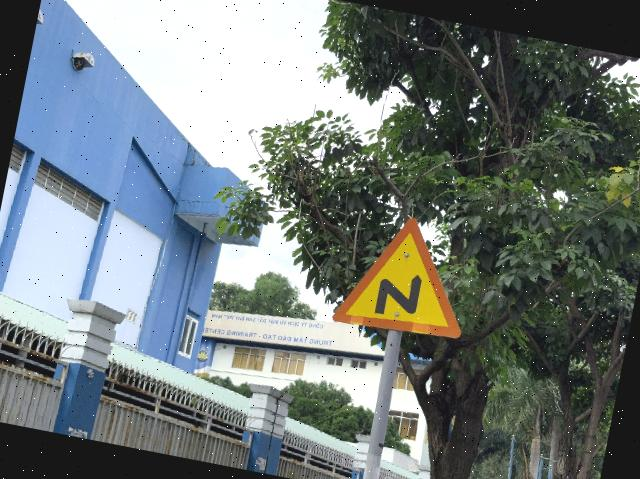nhieu-cho-ngoat-nguy-hiem-lien-tiep: (330, 205, 480, 346)
